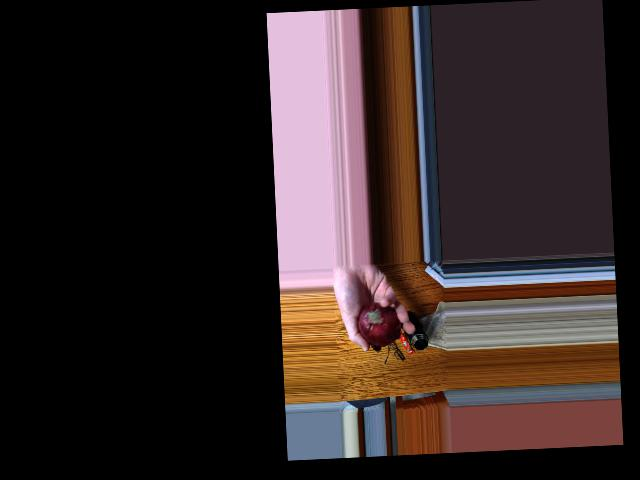onion: (355, 297, 394, 345)
